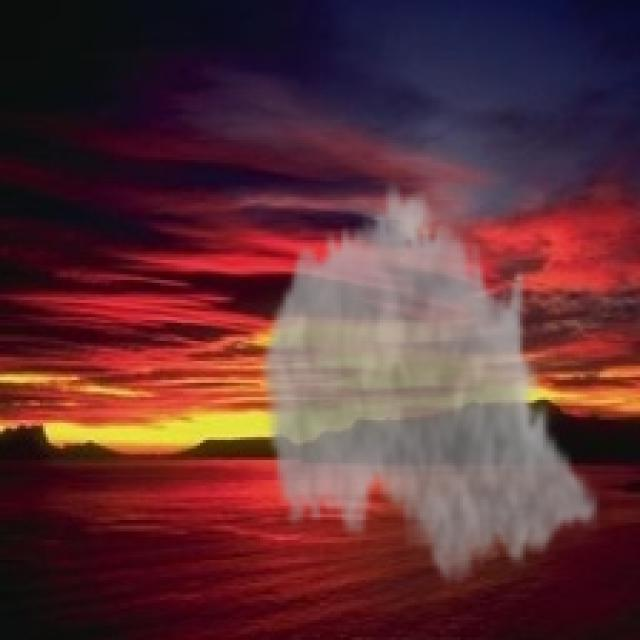Smoke: (257, 175, 603, 594)
